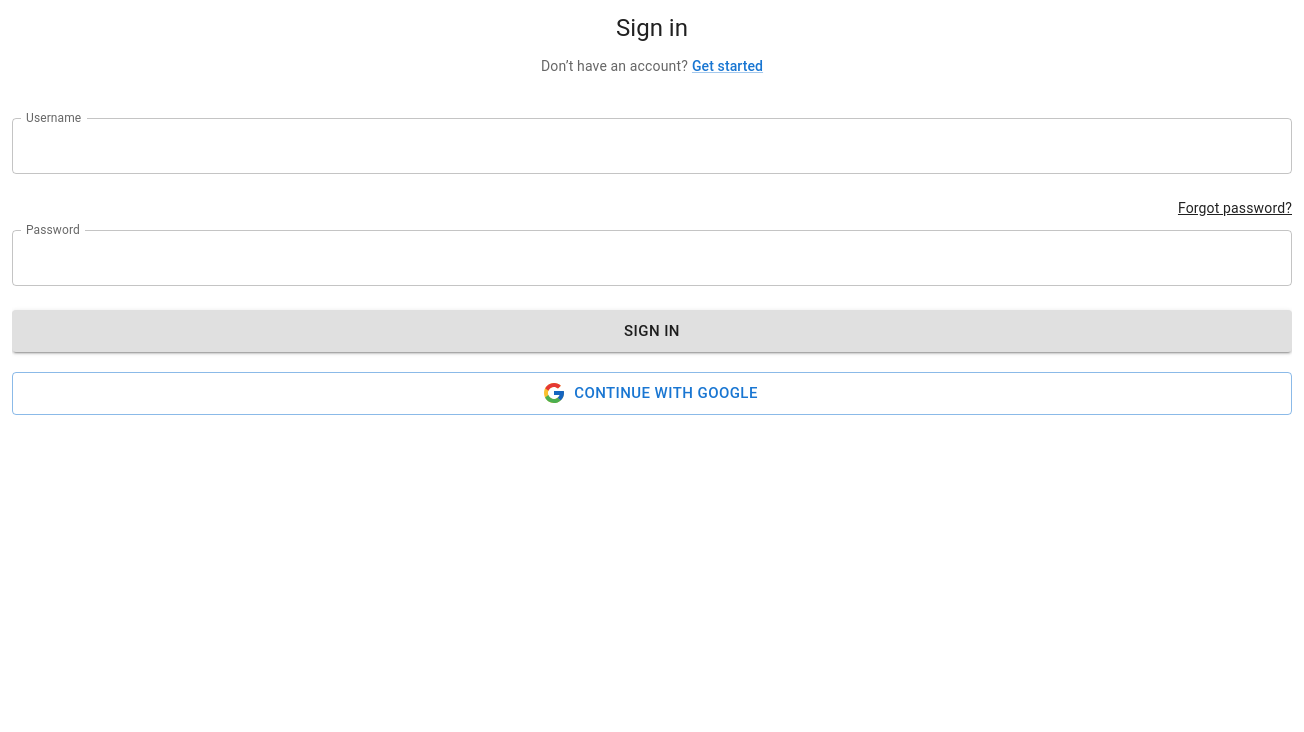
Test: SignInView › handles banned account
Type "banned.user" into the field labelled "Username" at (652, 146), box [12, 118, 1292, 174]
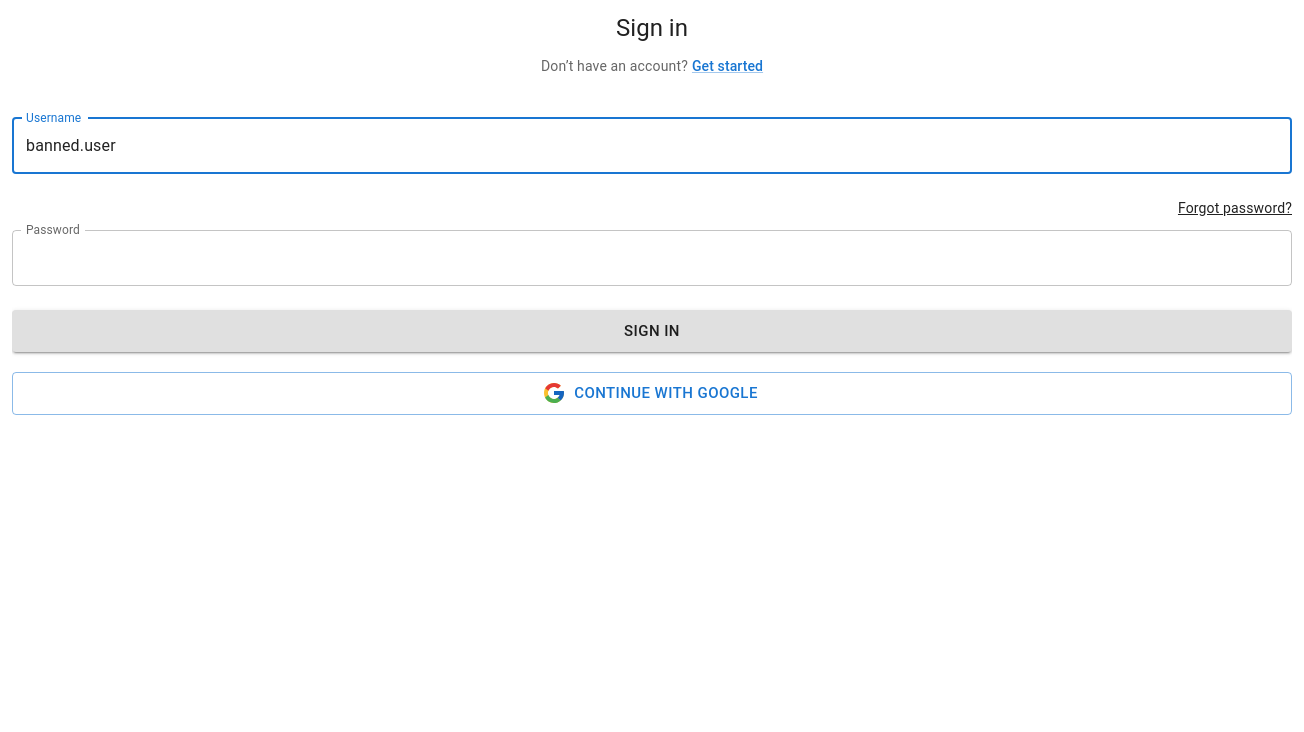
Type "password123" into the password field labelled "Password" at (629, 258), box [12, 230, 1246, 286]
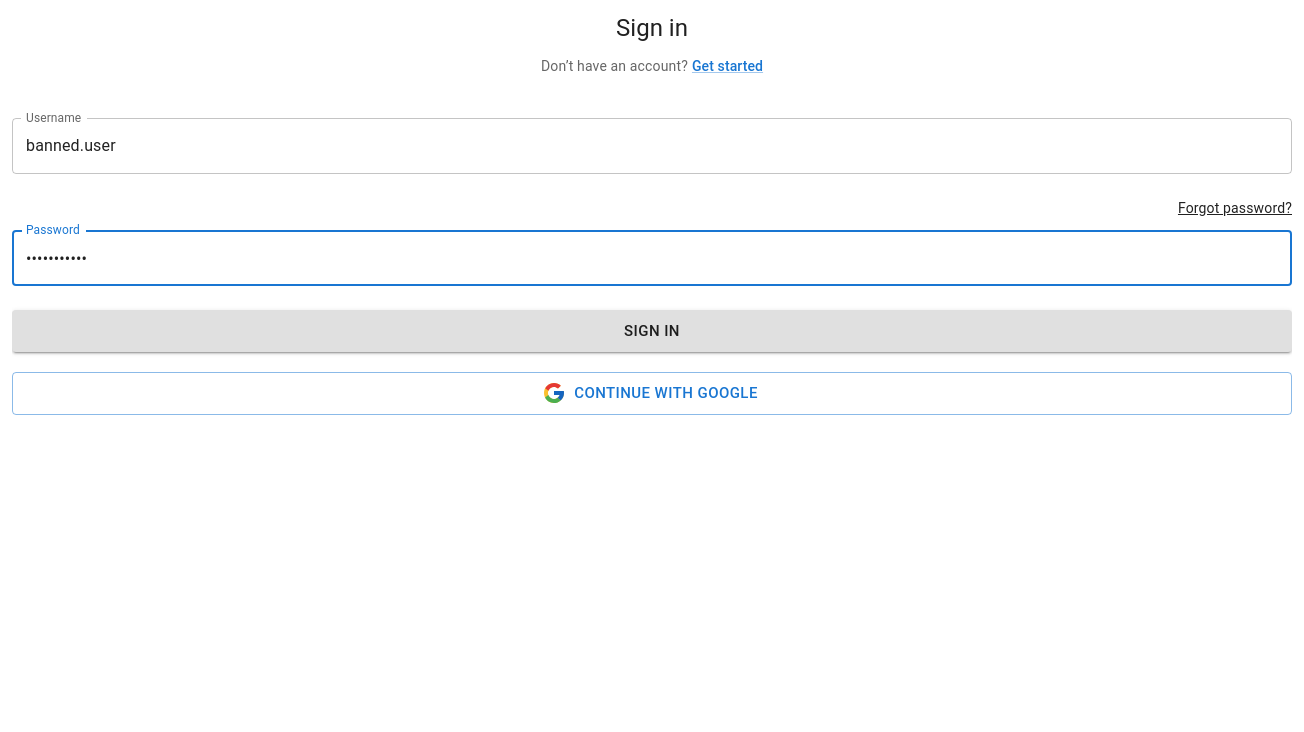
Click the button "Sign in" at (652, 331), box [12, 310, 1292, 352]
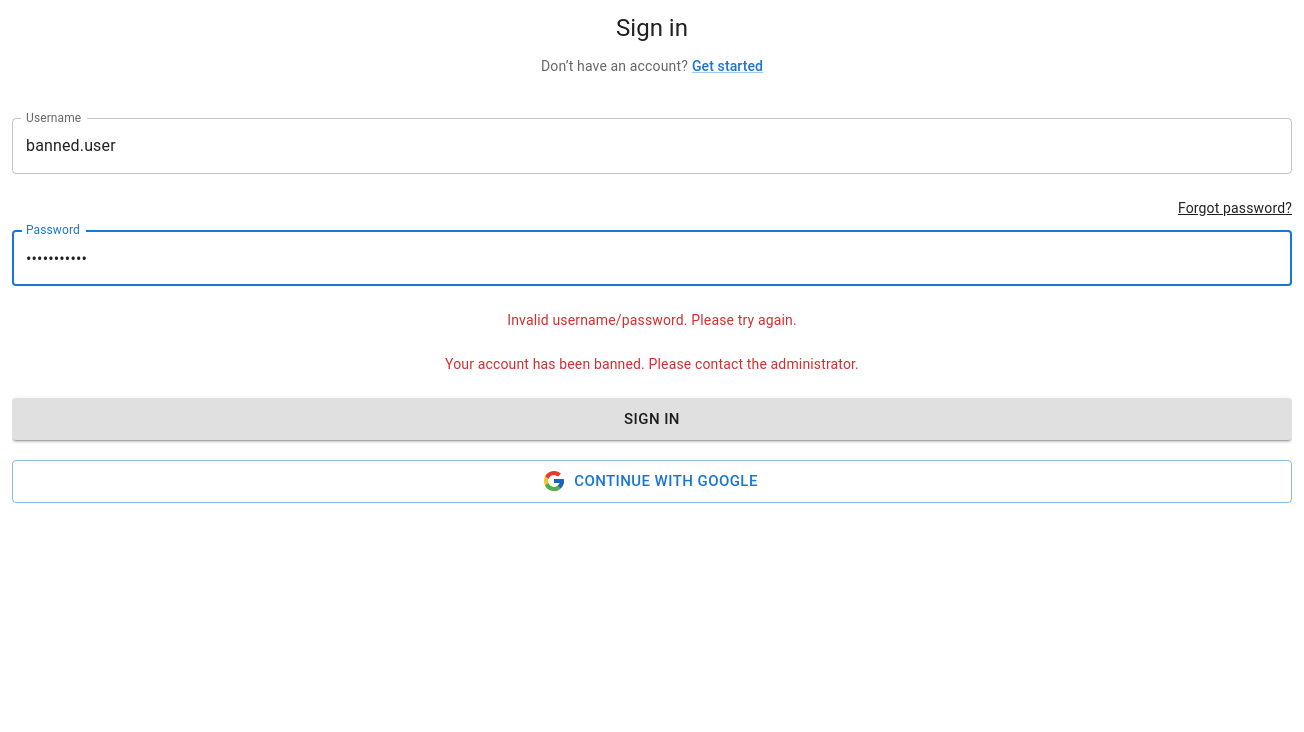
Expected: the text "account has been banned" is shown, [445, 356, 859, 372]
